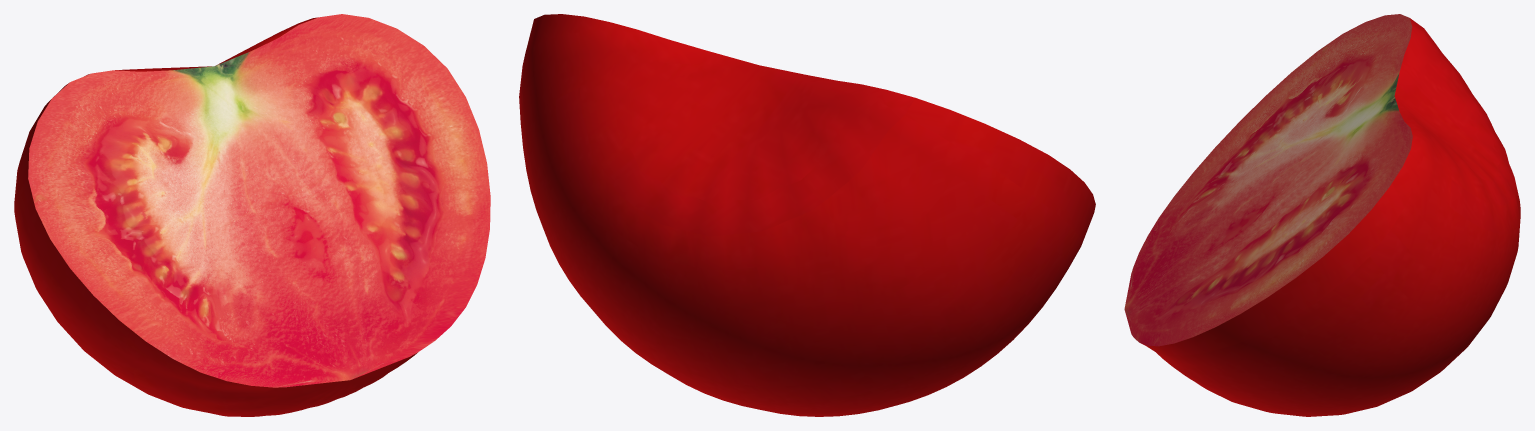
The model's file is half-tomato.FBX.
3 views of the same model, side by side, from view 1: azimuth 30°, elevation 25°; view 2: azimuth 150°, elevation 25°; view 3: azimuth 270°, elevation 25° (orthographic). The views are drawn at different scales.
Visible parts, largest first — view 1: Sphere001; view 2: Sphere001; view 3: Sphere001.
Part boxes in pixels (<box>): Sphere001: <box>14,14,490,416</box>; Sphere001: <box>519,14,1095,416</box>; Sphere001: <box>1124,14,1520,416</box>.
Bounding box in the file's own units: 67.55 × 46.74 × 53.83.
